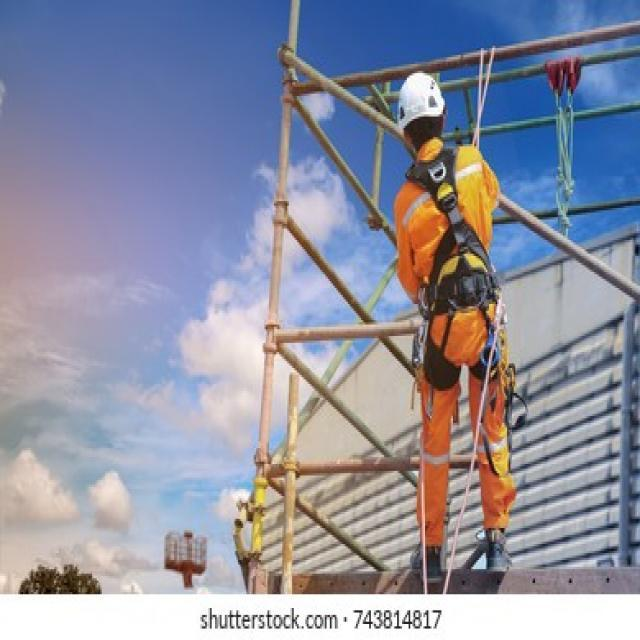belt: (434, 165, 482, 324)
